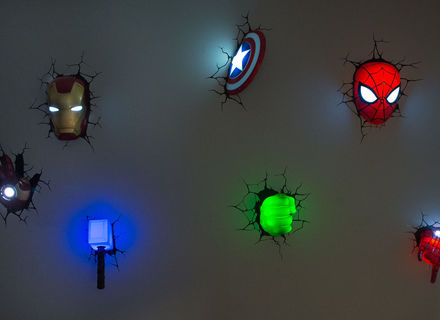THOR Hammer: (83, 213, 127, 291)
